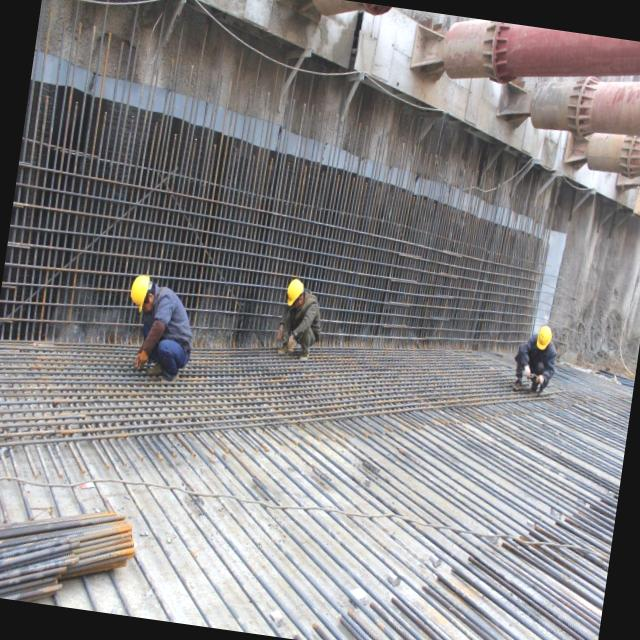helmet: (128, 268, 152, 313), (280, 273, 308, 310), (532, 321, 560, 354)
